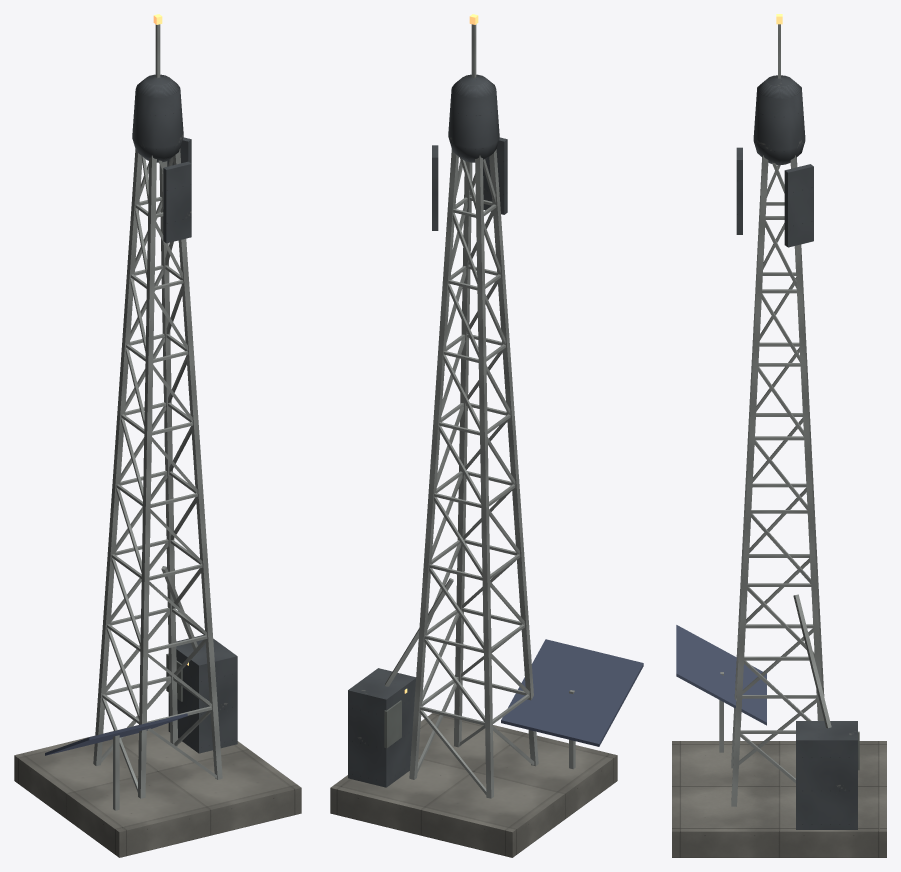
File: relay_mast.glb
3 views of the same model, side by side, from view 1: azimuth 30°, elevation 25°; view 2: azimuth 150°, elevation 25°; view 3: azimuth 270°, elevation 25° (orthographic). The views are drawn at different scales.
Parts seen in each view (by area): view 1: relay_mast; view 2: relay_mast; view 3: relay_mast.
Part boxes in pixels (x1=…): relay_mast: x1=14, y1=14, x2=301, y2=857; relay_mast: x1=330, y1=14, x2=643, y2=857; relay_mast: x1=672, y1=14, x2=886, y2=857.
Bounding box in the file's own units: 3 × 10.65 × 2.6.
5 materials, 3 textured.
